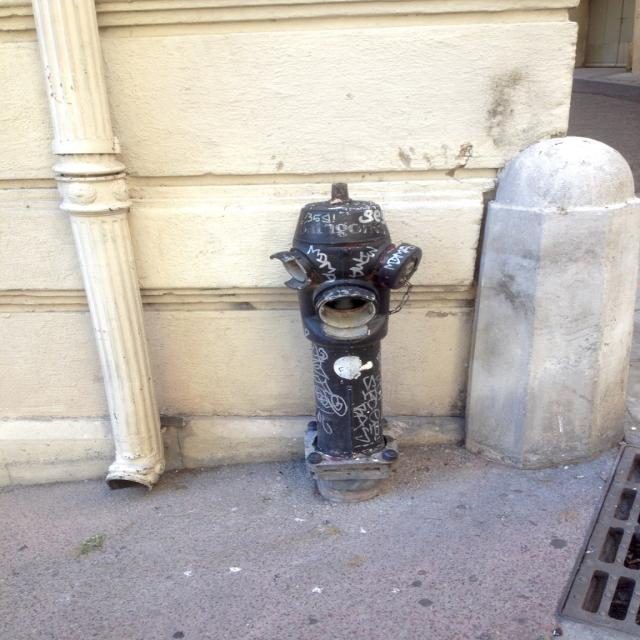fire_hydrant: (271, 183, 420, 502)
